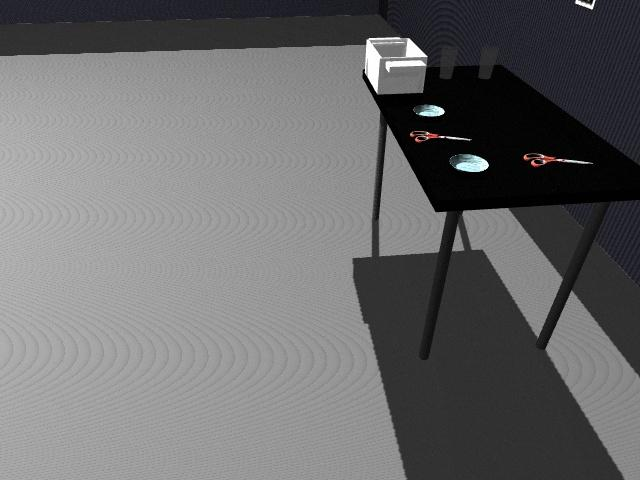cup: (478, 45, 500, 81), (438, 45, 458, 80)
plate: (449, 153, 492, 172), (412, 104, 445, 117)
scissors: (523, 152, 593, 167), (412, 130, 473, 144)
